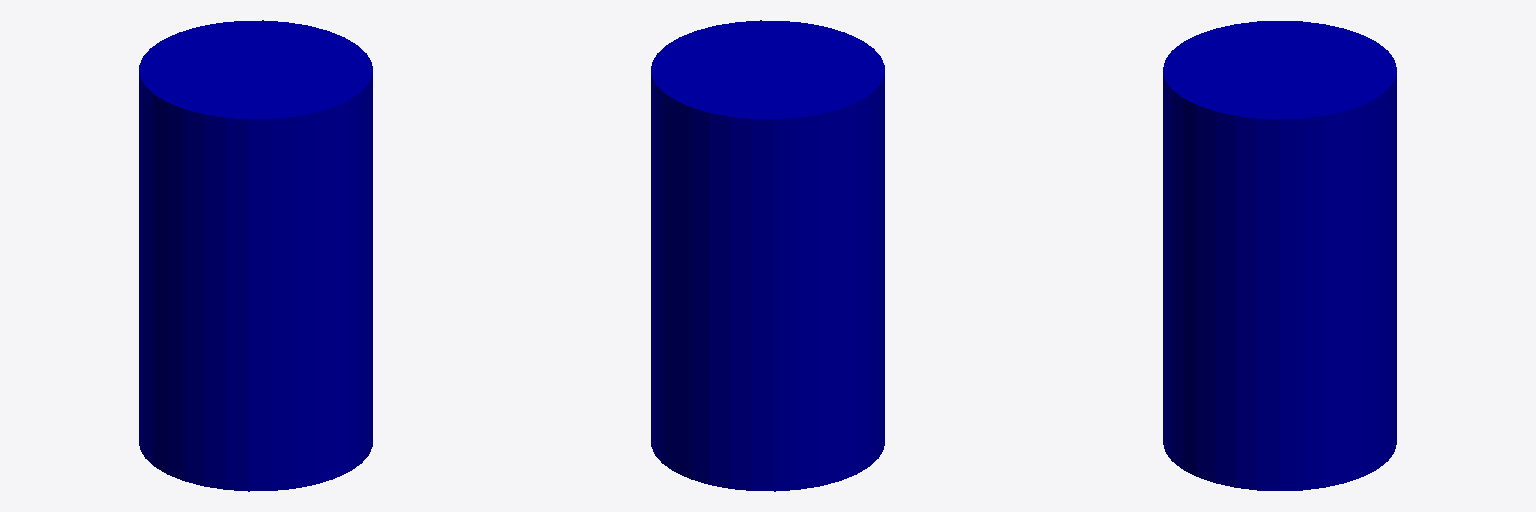
The robot description file, URDF, robot "my_robot":
<?xml version="1.0"?>
<robot name="my_robot">

    <material name="blue">
        <color rgba="0.0 0.0 0.7 1.0"/>
    </material>
    <link name="base_link">
        <visual>
            <geometry>
                <cylinder radius="0.2" length="0.7"/>
            </geometry>
            <origin rpy="0.0 0.0 0.0" xyz="0.0 0.0 0.0"/>
            <material name="blue"/>
        </visual>

        <collision>
            <geometry>
                <cylinder radius="0.2" length="0.7"/>
            </geometry>
            <origin rpy="0.0 0.0 0.0" xyz="0.0 0.0 0.0"/>
        </collision>

        <inertial>
            <mass value="10"/>    
            <inertia ixx="1e-3" ixy="0.0" ixz="0.0" iyy="1e-3" iyz="0.0" izz="1e-3"/>
        </inertial>
    </link>
</robot>

--- Facts derived from the render (not from the file) ---
Views: 3 orthographic renders of the robot side by side, from view 1: azimuth 30°, elevation 25°; view 2: azimuth 150°, elevation 25°; view 3: azimuth 270°, elevation 25°.
Model my_robot with 1 links and 0 joints (none), rooted at base_link, posed all joints at 0.
Links seen in each view (by area): view 1: base_link; view 2: base_link; view 3: base_link.
Link boxes in pixels (x1,y1,x2,y2): base_link: [139, 20, 372, 491]; base_link: [651, 20, 884, 491]; base_link: [1163, 21, 1396, 490].
Size in the robot's own frame: 0.4 by 0.4 by 0.7 metres.
Geometry: primitives only (box / cylinder / sphere), no mesh files.